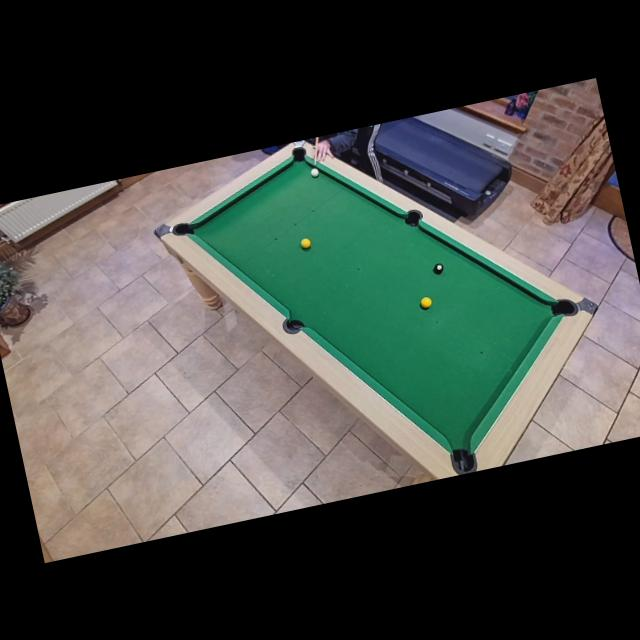Ball: (419, 296, 432, 309), (300, 238, 312, 250), (432, 261, 444, 273), (310, 168, 320, 178)
